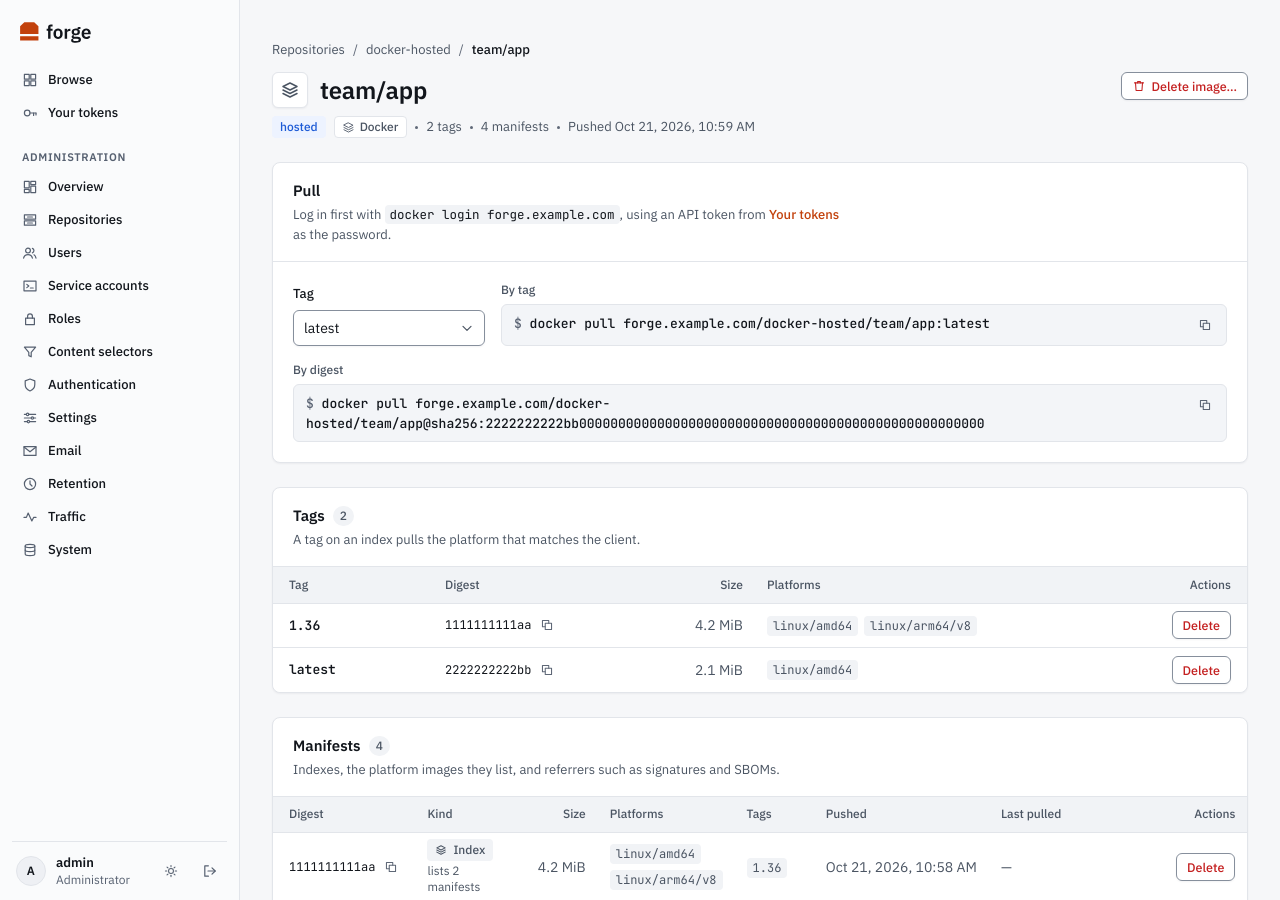
Scenario: ImageDetail › deleting (administrators) › removes a tag after confirming; its manifest stays
The image size is (1280, 900).
Click the button with aria-label "Delete tag 1.36" at (1201, 625), box [1172,611,1231,639]
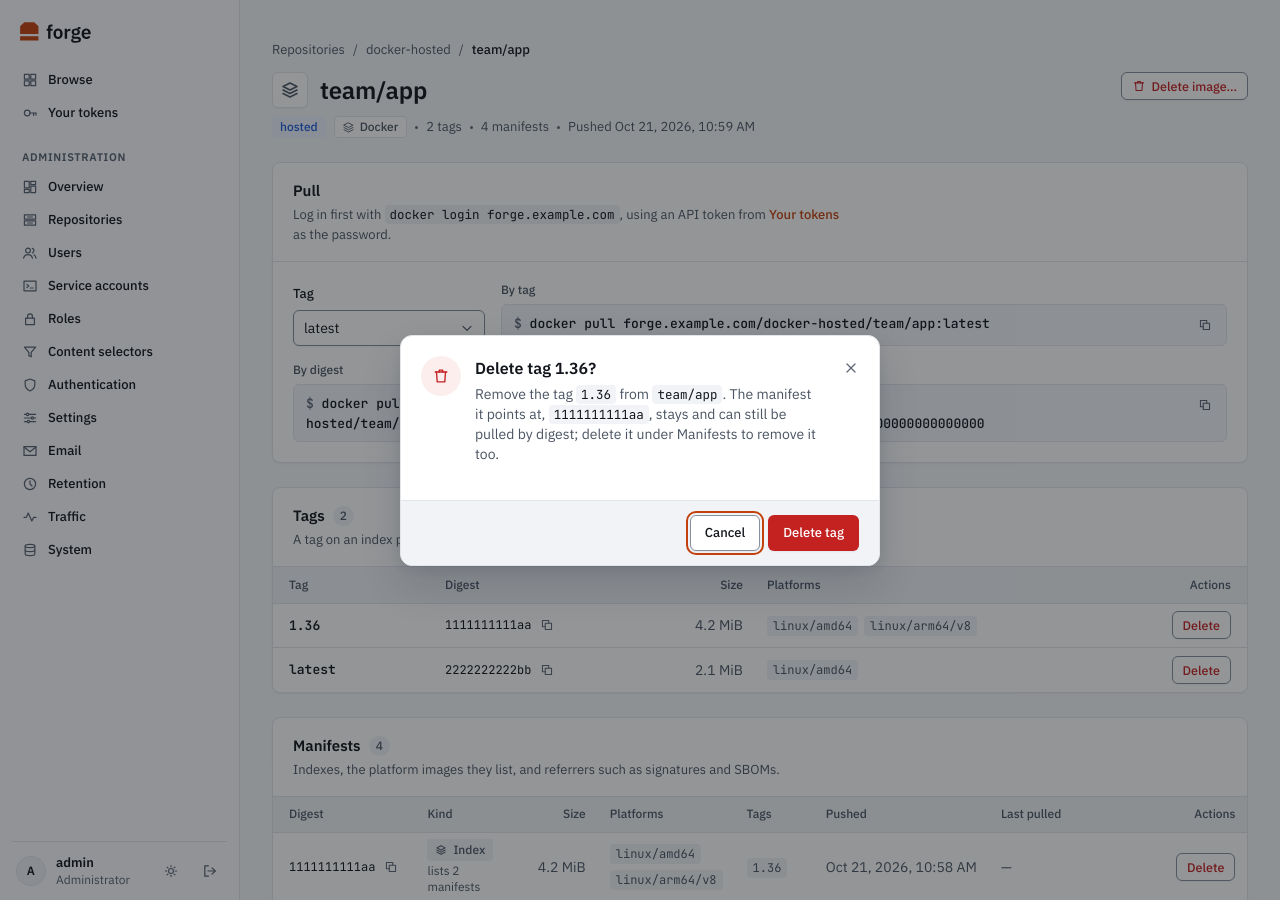
Expected: the dialog does not show "until the registry releases them", [400,334,880,566]
Expected: the dialog shows "Delete tag 1.36?", [475,358,596,378]
Expected: the dialog shows "can still be pulled by digest", [475,404,816,462]
Click the button "Cancel" at (725, 532), box [690,514,760,550]
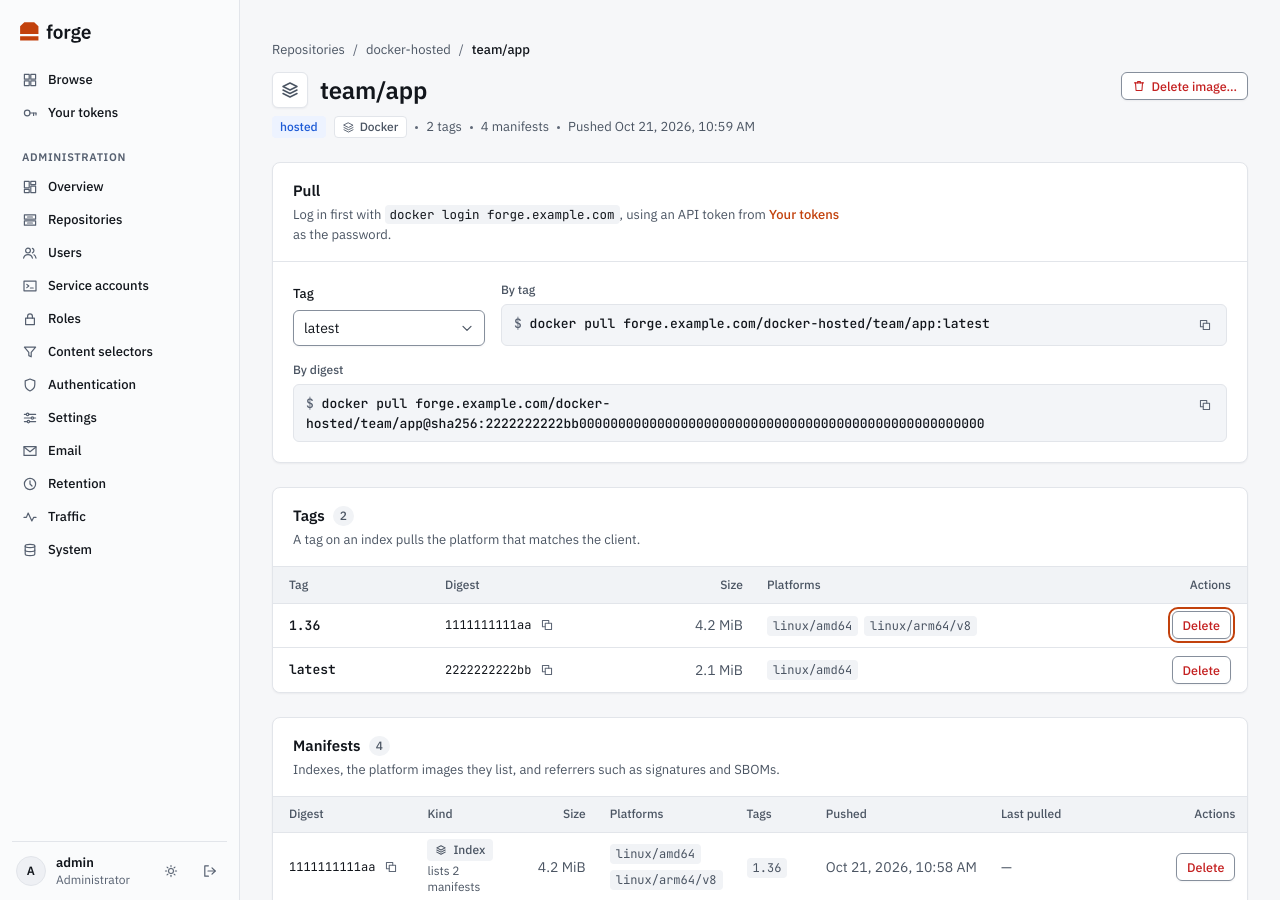
Click the button with aria-label "Delete tag 1.36" at (1201, 625), box [1172,611,1231,639]
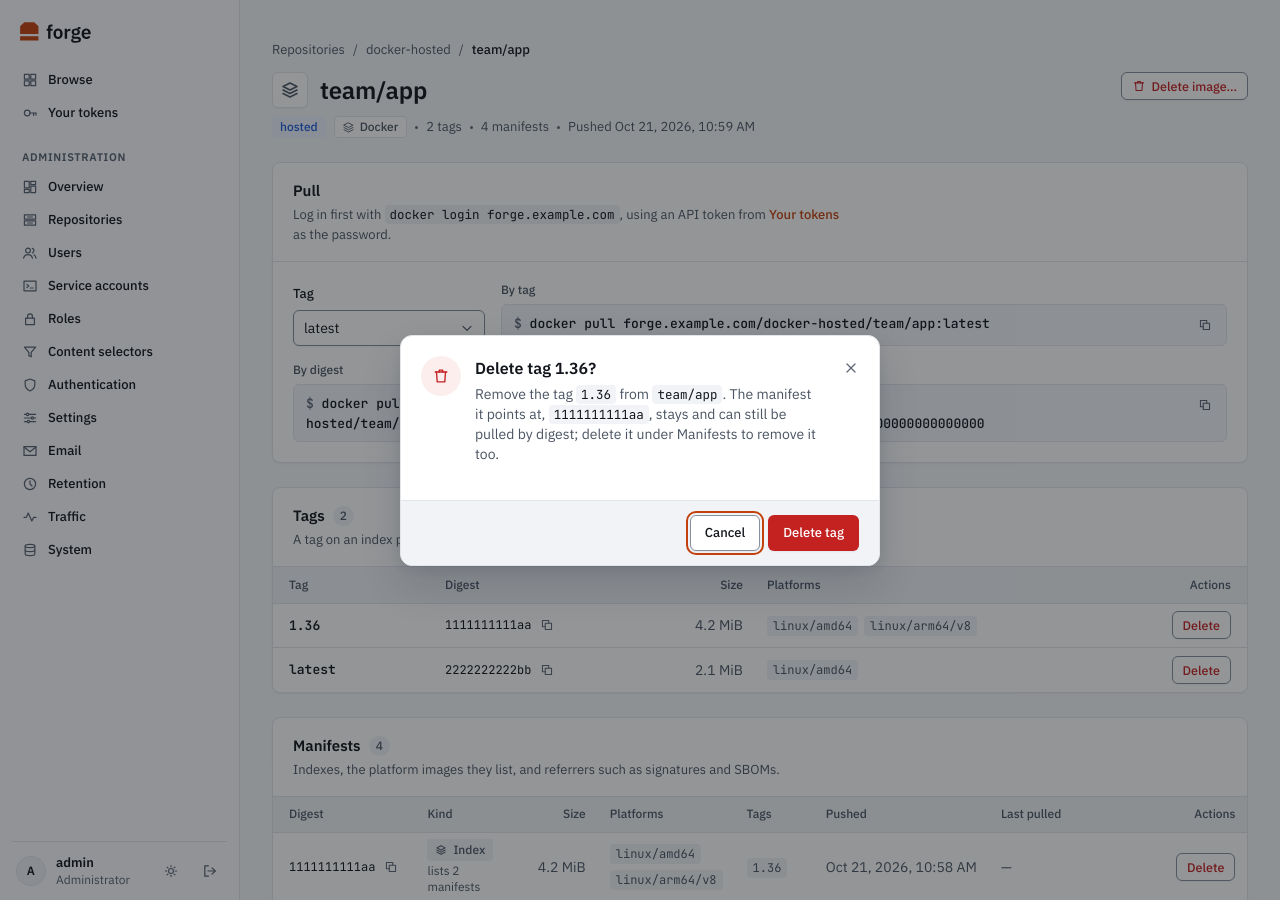
Click the button "Delete tag" at (814, 532), box [768,514,859,550]
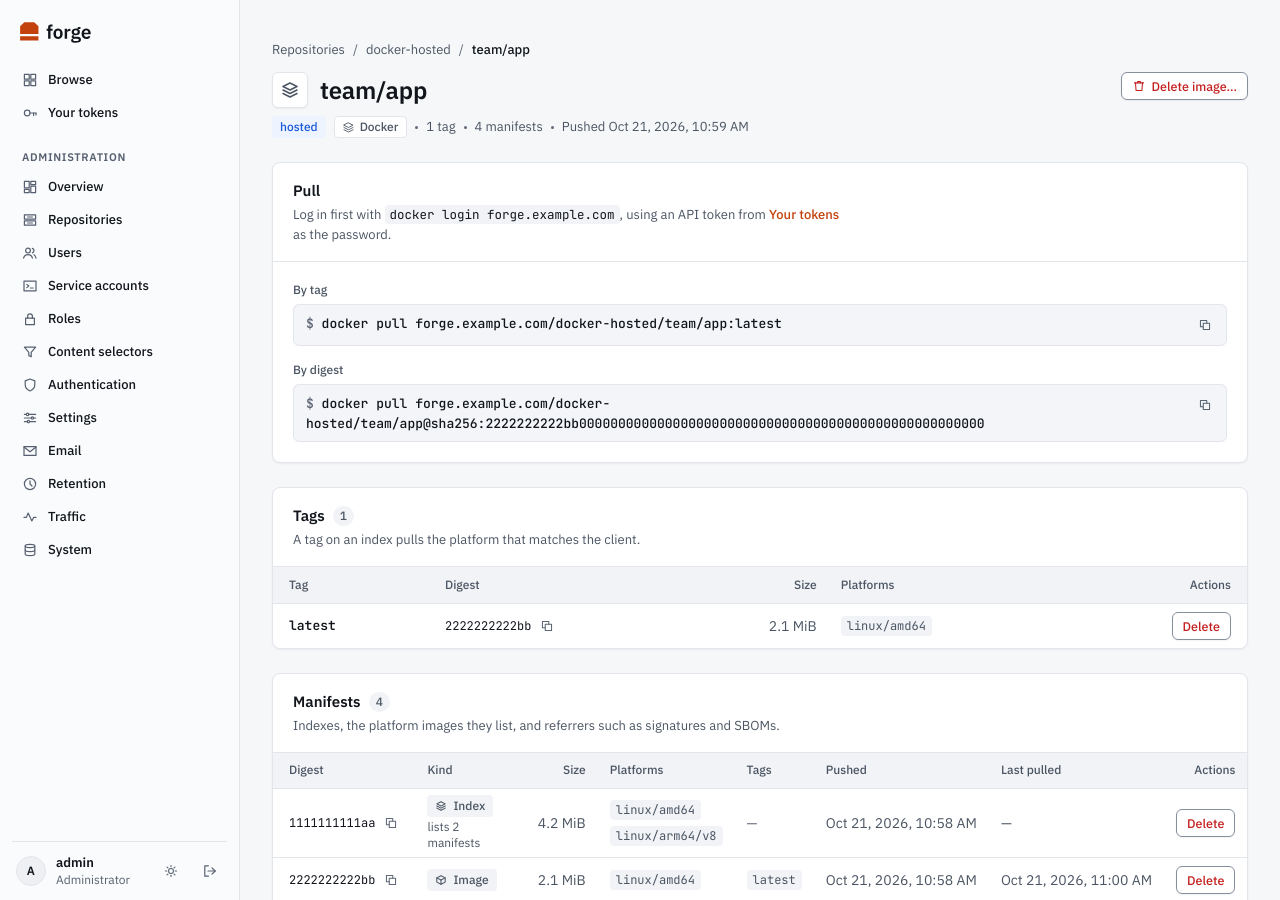
Expected: the heading "Delete tag 1.36" is gone
Expected: the dialog is gone
Expected: the number of buttons named "Delete manifest" is 4
